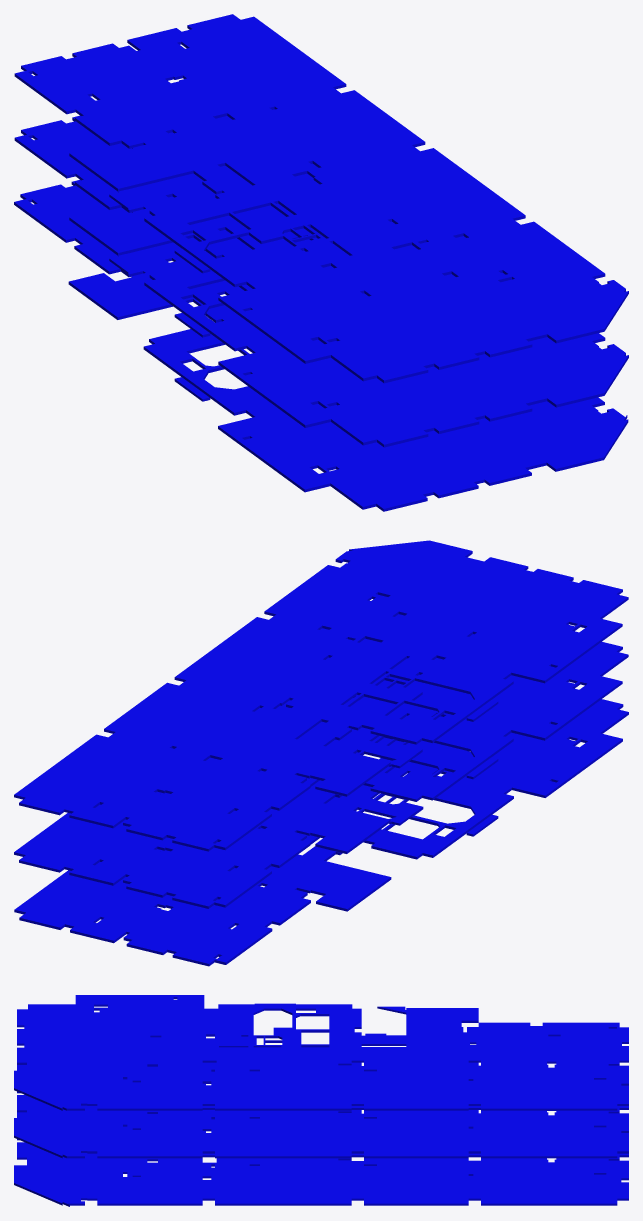
The model's file is component-slabs.gltf.
3 views of the same model, one above another, from view 1: azimuth 30°, elevation 25°; view 2: azimuth 150°, elevation 25°; view 3: azimuth 270°, elevation 25° (orthographic). The views are drawn at different scales.
Parts seen in each view (by area): view 1: RC樓板; view 2: RC樓板; view 3: RC樓板.
Boxes of the visible parts, x1,y1,x2,y2 form: RC樓板: (14,14,628,511); RC樓板: (14,540,628,966); RC樓板: (14,995,628,1206).
Bounding box in the file's own units: 17.65 × 7.07 × 39.9.
